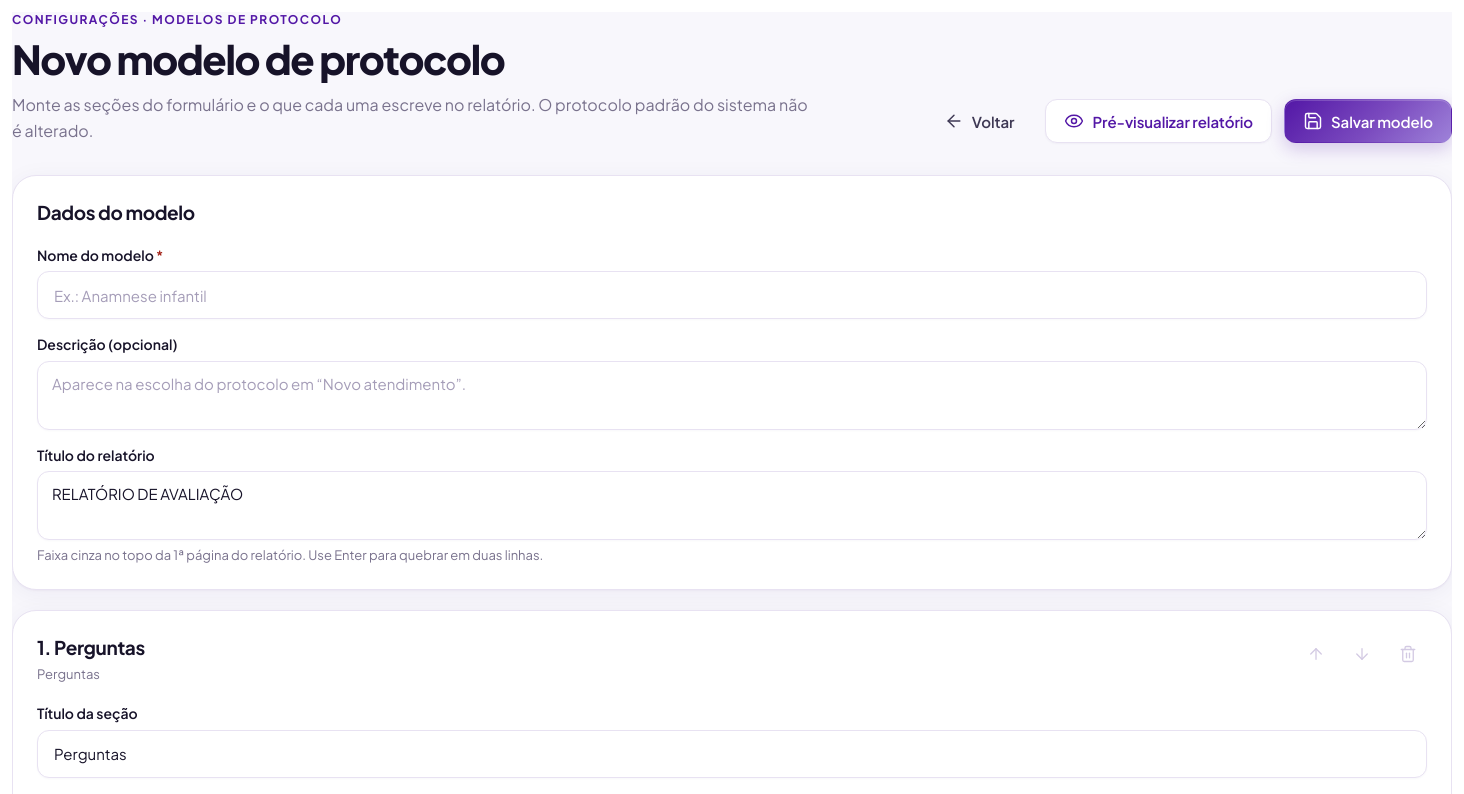
Scenario: EditorProtocolo › não salva sem nome e explica o que falta
Click the button "Salvar modelo".
click(1368, 121)  # box [1284,99,1452,143]
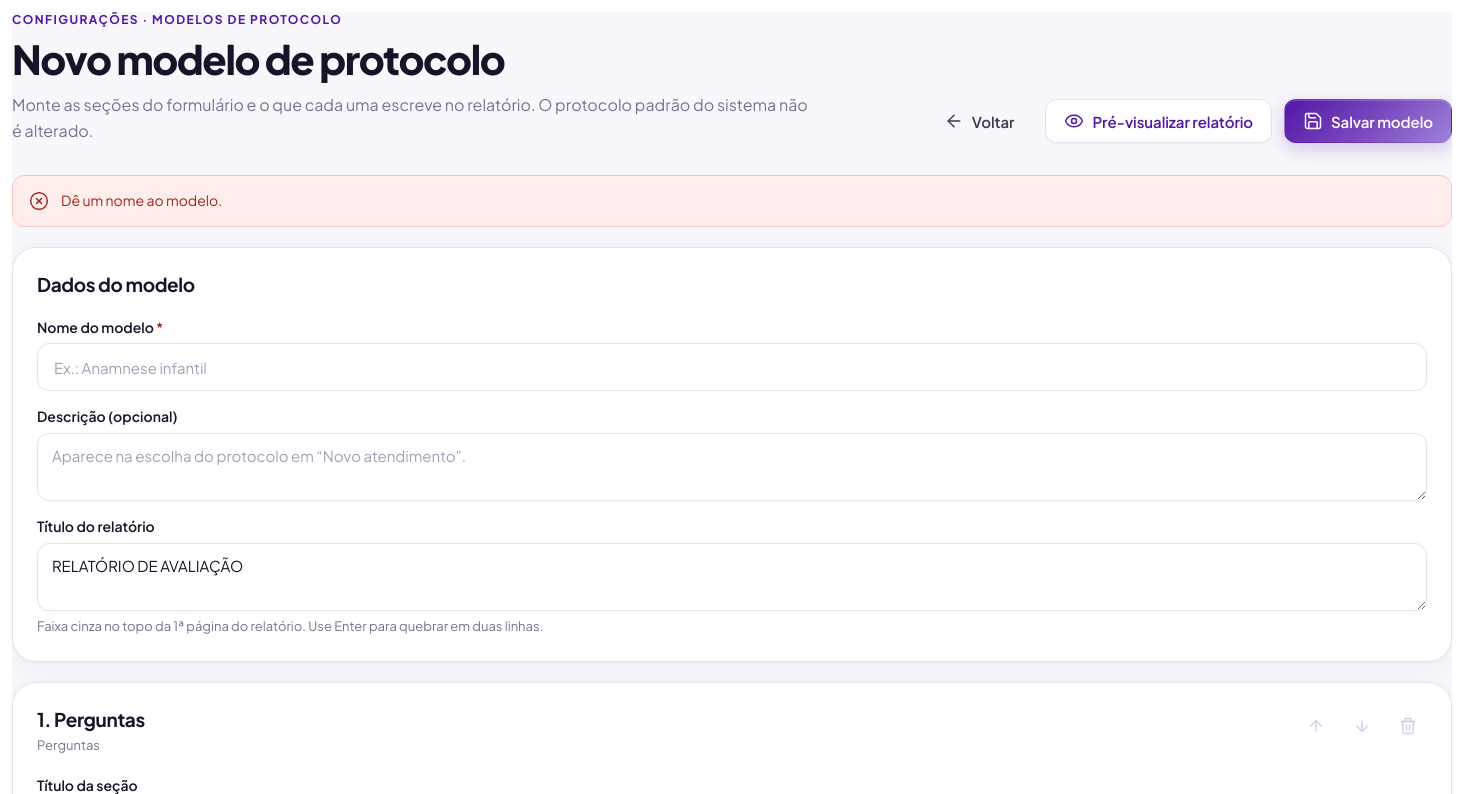
Expected: the text "Dê um nome ao modelo." is shown, [61,191,222,209]
